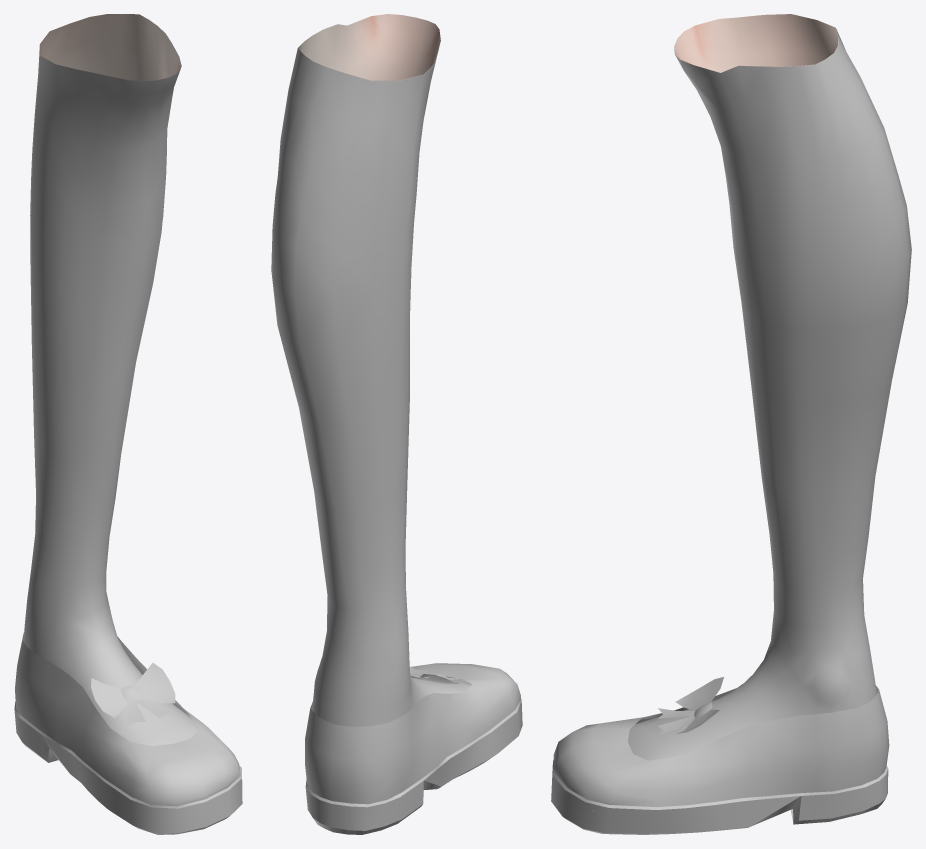
File: Koharu_Pie_2.obj
The picture shows the model from 3 angles, left to right: view 1: azimuth 30°, elevation 25°; view 2: azimuth 150°, elevation 25°; view 3: azimuth 270°, elevation 25°; orthographic projection. The views are drawn at different scales.
Parts seen in each view (by area): view 1: Pie_1_Body_큐브.002; view 2: Pie_1_Body_큐브.002; view 3: Pie_1_Body_큐브.002.
Part boxes in pixels (x1,y1,x2,y2): Pie_1_Body_큐브.002: (14,14,242,834); Pie_1_Body_큐브.002: (271,14,522,834); Pie_1_Body_큐브.002: (551,14,911,834).
Size of the model in its own units: 0.0674 by 0.3662 by 0.1556.
